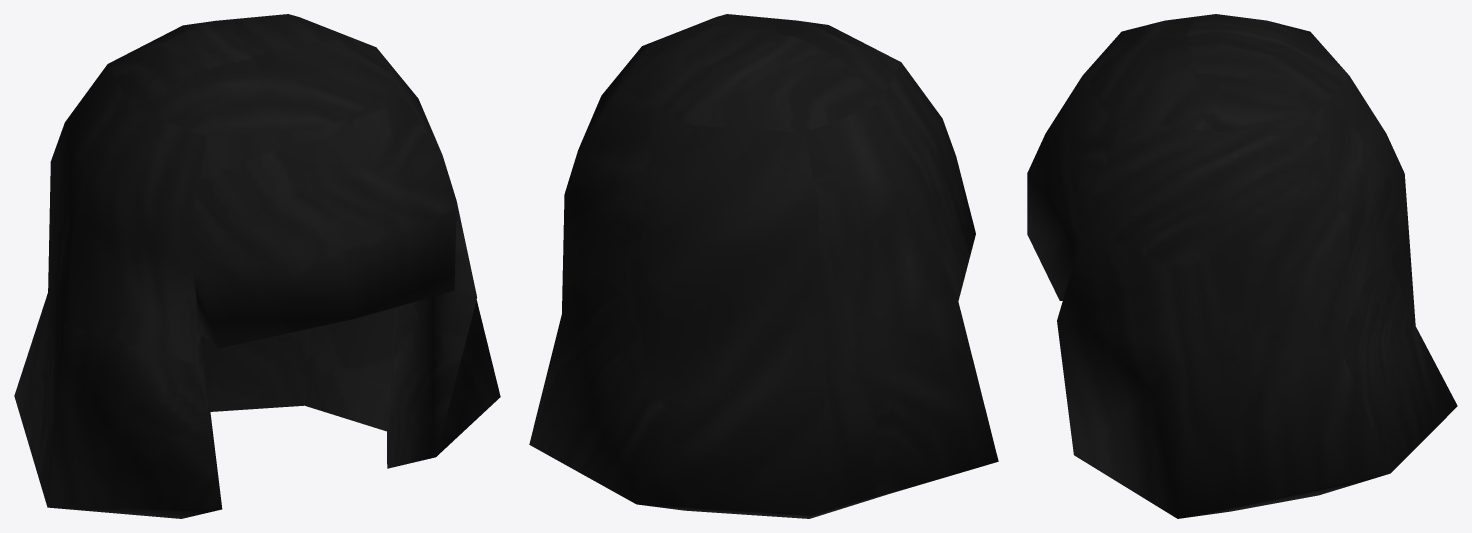
File: five_dollar_milkshake.glb
3 renders of one model, left to right at view 1: azimuth 30°, elevation 25°; view 2: azimuth 150°, elevation 25°; view 3: azimuth 270°, elevation 25°, orthographic. The views are drawn at different scales.
Visible parts, largest first — view 1: Five-Dollar Milkshake; view 2: Five-Dollar Milkshake; view 3: Five-Dollar Milkshake.
Boxes of the visible parts, <box> form: Five-Dollar Milkshake: <box>14,14,500,518</box>; Five-Dollar Milkshake: <box>529,14,998,518</box>; Five-Dollar Milkshake: <box>1027,14,1457,518</box>.
Size of the model in its own units: 0.3066 by 0.2796 by 0.2679.
Materials: 1 (1 with a texture image).
